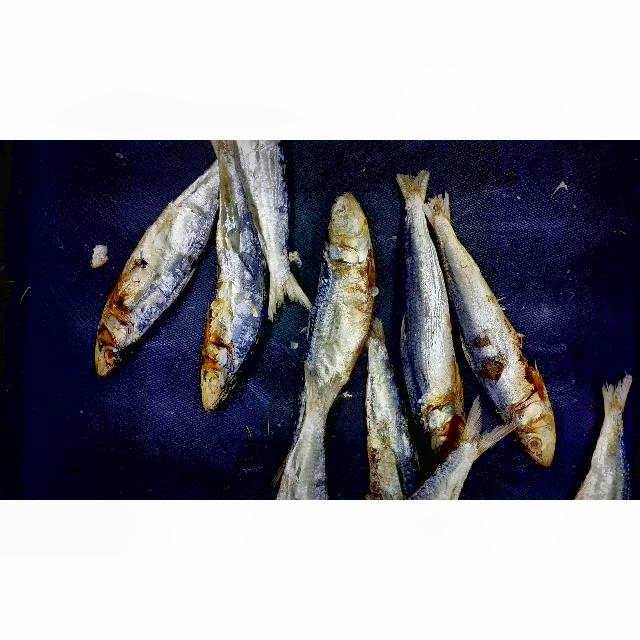Grade_B_Body: (442, 270, 569, 394), (106, 188, 214, 310), (301, 270, 374, 397), (207, 178, 263, 335), (402, 247, 464, 385), (353, 390, 424, 494), (231, 142, 303, 201)
Grade_B_Head: (492, 401, 571, 471), (312, 186, 379, 267), (74, 319, 148, 388), (182, 343, 249, 418), (418, 414, 470, 460)
Grade_B_Tail: (268, 367, 352, 500), (422, 392, 513, 500), (578, 356, 640, 500), (247, 203, 320, 316), (420, 189, 489, 270), (387, 168, 444, 253)
